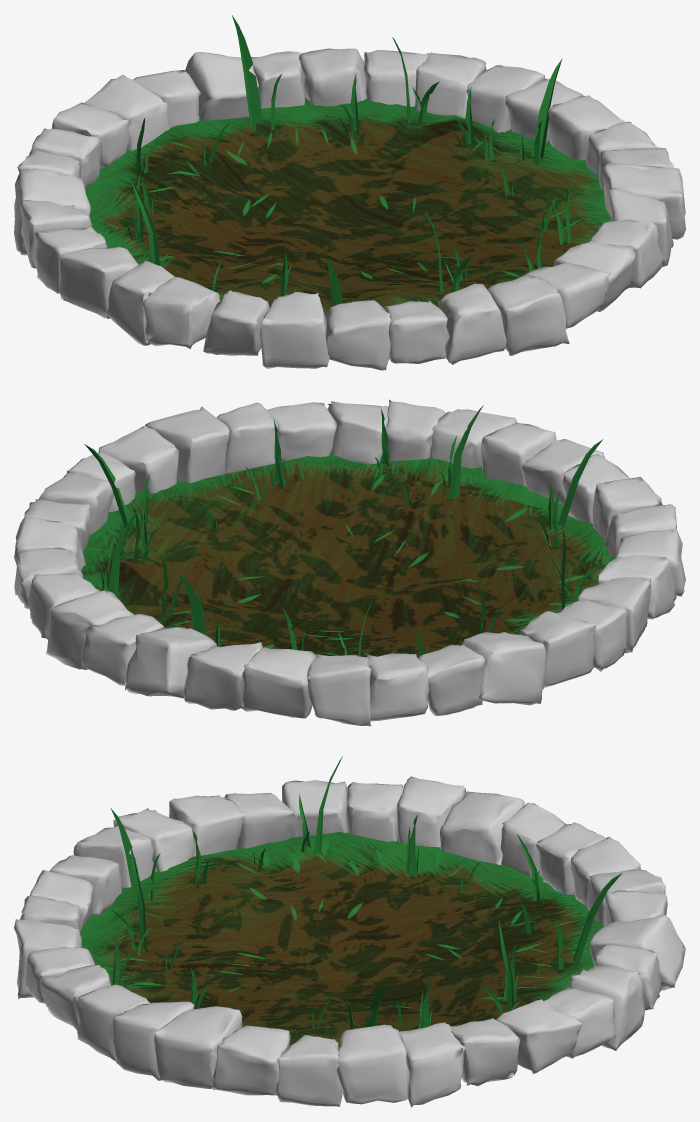
Rendered from Cantero.fbx.
The picture shows the model from 3 angles, top to bottom: view 1: azimuth 30°, elevation 25°; view 2: azimuth 150°, elevation 25°; view 3: azimuth 270°, elevation 25°; orthographic projection.
Parts seen in each view (by area): view 1: Cylinder:020, Plane.021; view 2: Cylinder:020, Plane.021; view 3: Cylinder:020, Plane.021.
Boxes of the visible parts, bbox=[...] form: Cylinder:020: bbox=[14, 48, 685, 370]; Plane.021: bbox=[85, 15, 610, 316]; Cylinder:020: bbox=[14, 399, 685, 726]; Plane.021: bbox=[81, 405, 614, 658]; Cylinder:020: bbox=[14, 776, 685, 1107]; Plane.021: bbox=[80, 756, 622, 1046].
Size of the model in its own units: 200 by 40.79 by 206.
